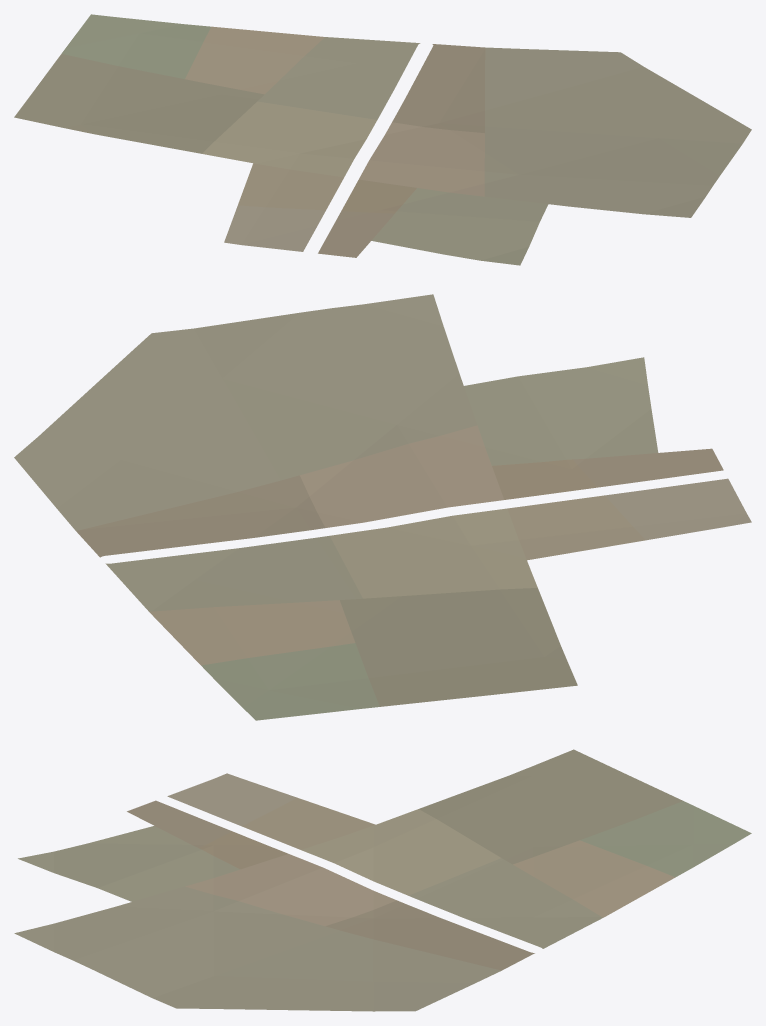
Rendered from farm_-27_-25_soil.glb.
The picture shows the model from 3 angles, top to bottom: view 1: azimuth 30°, elevation 25°; view 2: azimuth 150°, elevation 25°; view 3: azimuth 270°, elevation 25°; orthographic projection. The views are drawn at different scales.
Visible parts, largest first — view 1: geometry_0; view 2: geometry_0; view 3: geometry_0.
Part boxes in pixels (<box>): geometry_0: <box>14,14,751,265</box>; geometry_0: <box>14,294,751,720</box>; geometry_0: <box>14,749,751,1011</box>.
Bounding box in the file's own units: 310 × 10.98 × 369.
